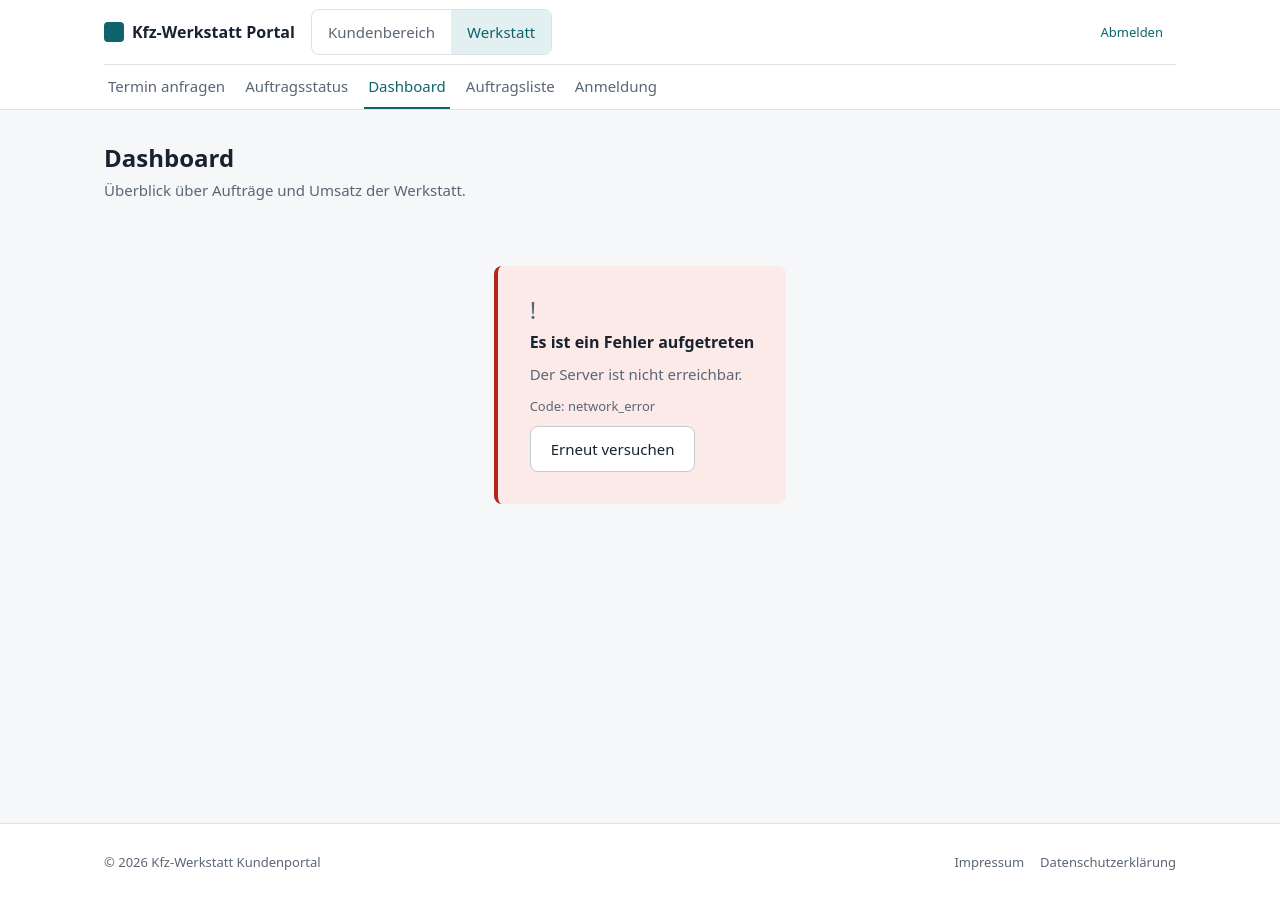
Test: area switch › switches from the workshop area back to the customer area
Click the link "Kundenbereich" at (382, 32), box left=328, top=22, right=435, bottom=42
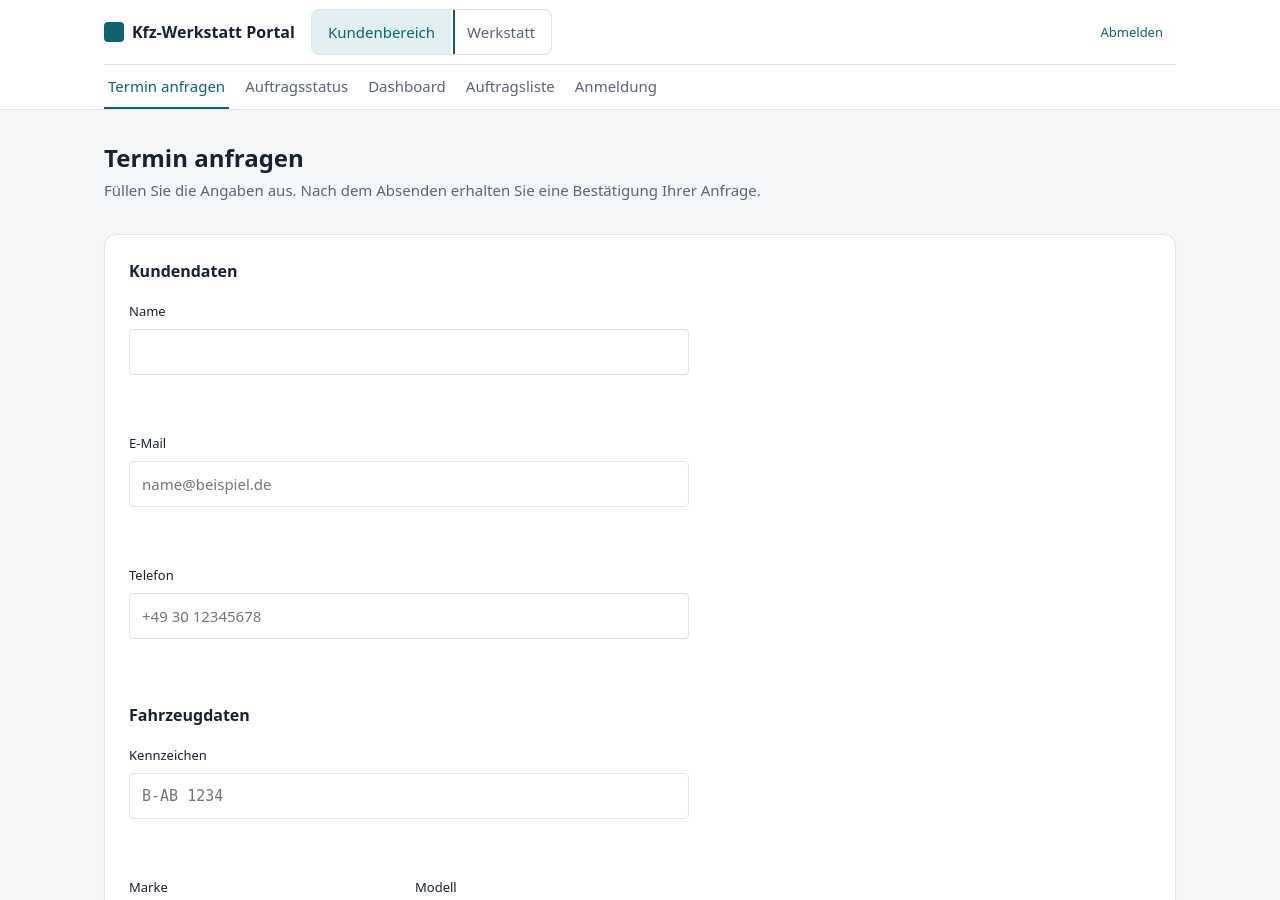
Now the heading "Termin anfragen" is shown, box left=104, top=141, right=304, bottom=174
